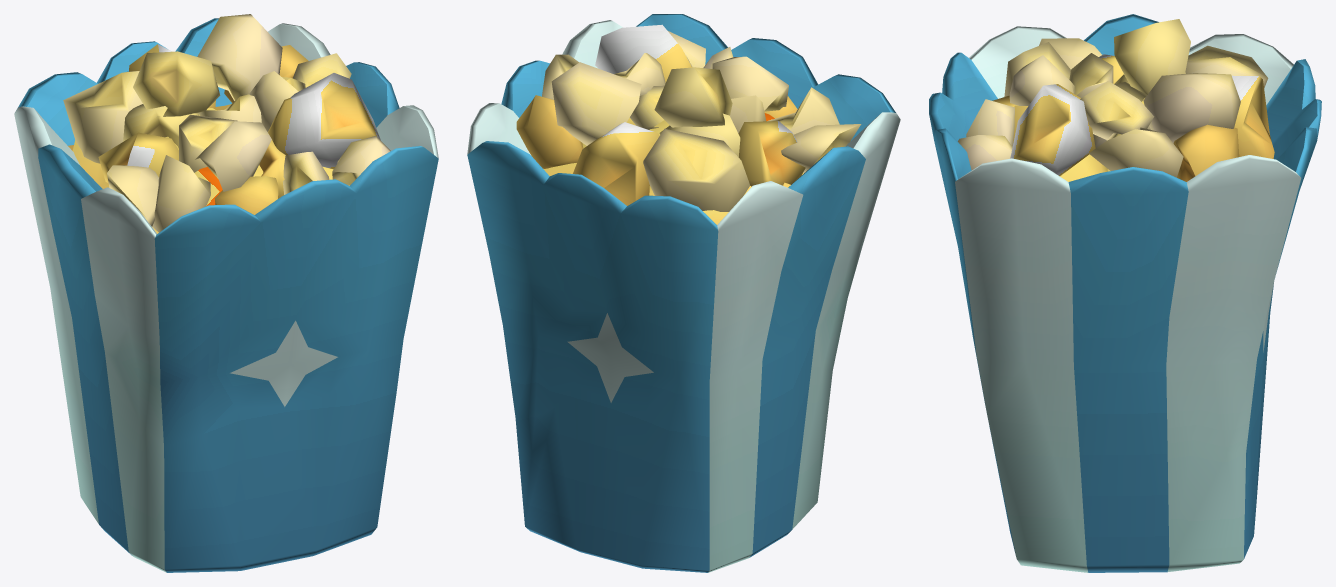
The model's file is CharSkyKid_Prop_AnniversaryPopcorn.glb.
3 renders of one model, left to right at view 1: azimuth 30°, elevation 25°; view 2: azimuth 150°, elevation 25°; view 3: azimuth 270°, elevation 25°, orthographic. The views are drawn at different scales.
Parts seen in each view (by area): view 1: CharSkyKid_Prop_AnniversaryPopcorn; view 2: CharSkyKid_Prop_AnniversaryPopcorn; view 3: CharSkyKid_Prop_AnniversaryPopcorn.
Part boxes in pixels (x1=…): CharSkyKid_Prop_AnniversaryPopcorn: x1=14, y1=14, x2=438, y2=572; CharSkyKid_Prop_AnniversaryPopcorn: x1=467, y1=14, x2=900, y2=572; CharSkyKid_Prop_AnniversaryPopcorn: x1=929, y1=14, x2=1321, y2=572.
Size of the model in its own units: 1.96 by 2.78 by 1.98.
1 material, 1 textured.
